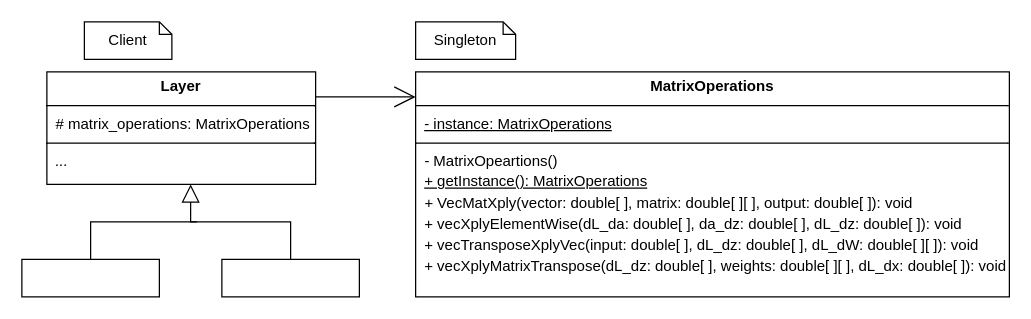
The diagram is 1031 pixels wide and 319 high, and some of its shapes have lost their labels. The shapes that lost their labels are listed below. From the top down, each one's box as (x1, y1, x2, y2) in pixels, then its label:
(21, 258, 159, 297): OutputLayer
(221, 258, 359, 297): HiddenLayer
